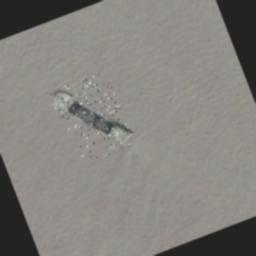boat: (48, 70, 138, 168)
